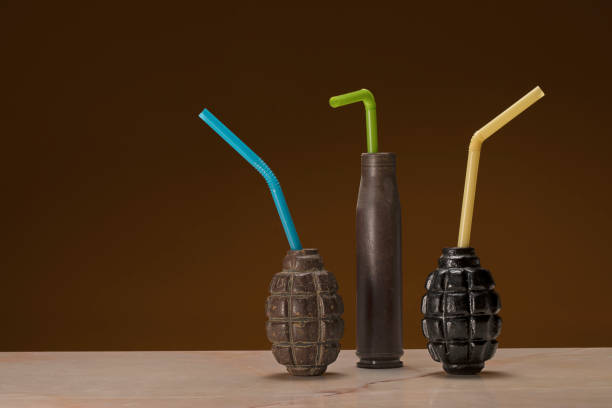e1: (261, 246, 349, 379), (422, 245, 504, 379)
